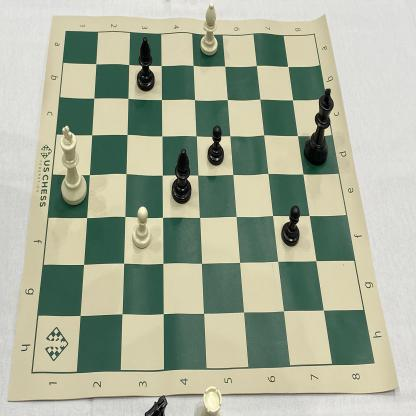black-bishop: (166, 142, 195, 208), (133, 35, 161, 97)
black-king: (300, 84, 338, 171)
black-pawn: (276, 200, 304, 252), (206, 122, 225, 170)
white-bishop: (196, 0, 222, 61)
white-king: (54, 121, 93, 209)
white-pawn: (129, 201, 153, 252)
